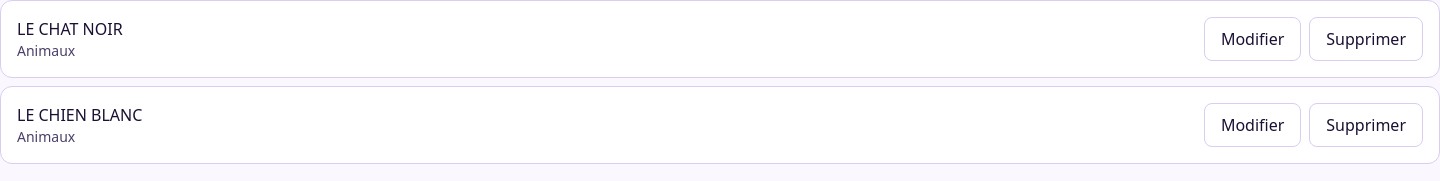
Scenario: PuzzleList › referme la confirmation en cours quand on ouvre celle d’une autre ligne
Step 1. Click the button with aria-label "Supprimer LE CHAT NOIR" → (1366, 39), box [1309,17,1423,61]
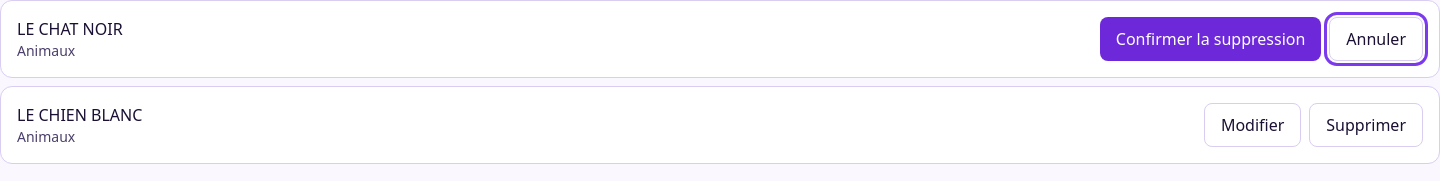
Expected: the button with aria-label "Confirmer la suppression de LE CHAT NOIR" is shown, [1100,17,1321,61]
Step 2. Click the button with aria-label "Supprimer LE CHIEN BLANC" → (1366, 125), box [1309,103,1423,147]
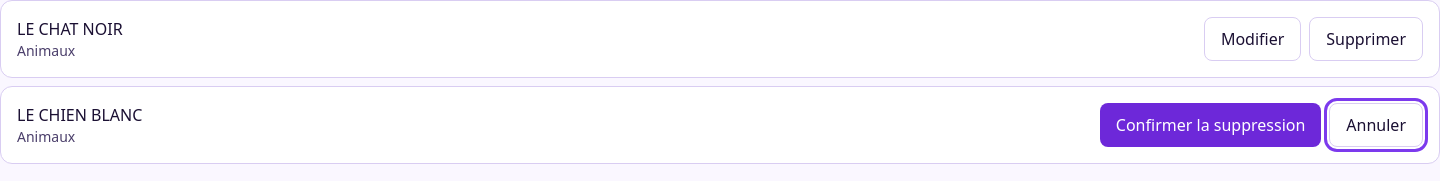
Expected: the button with aria-label "Confirmer la suppression de LE CHIEN BLANC" is shown, [1100,103,1321,147]
